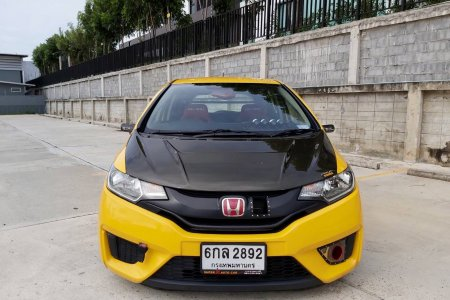sedan: (98, 73, 364, 292)
